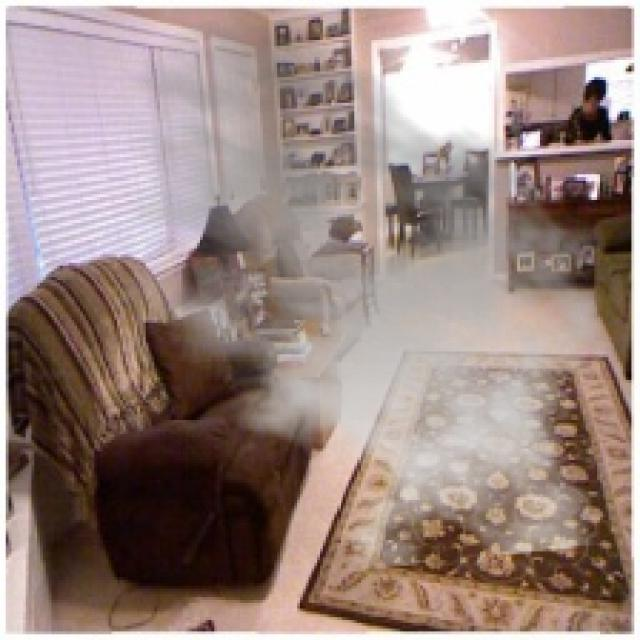smoke: (71, 14, 634, 572)
